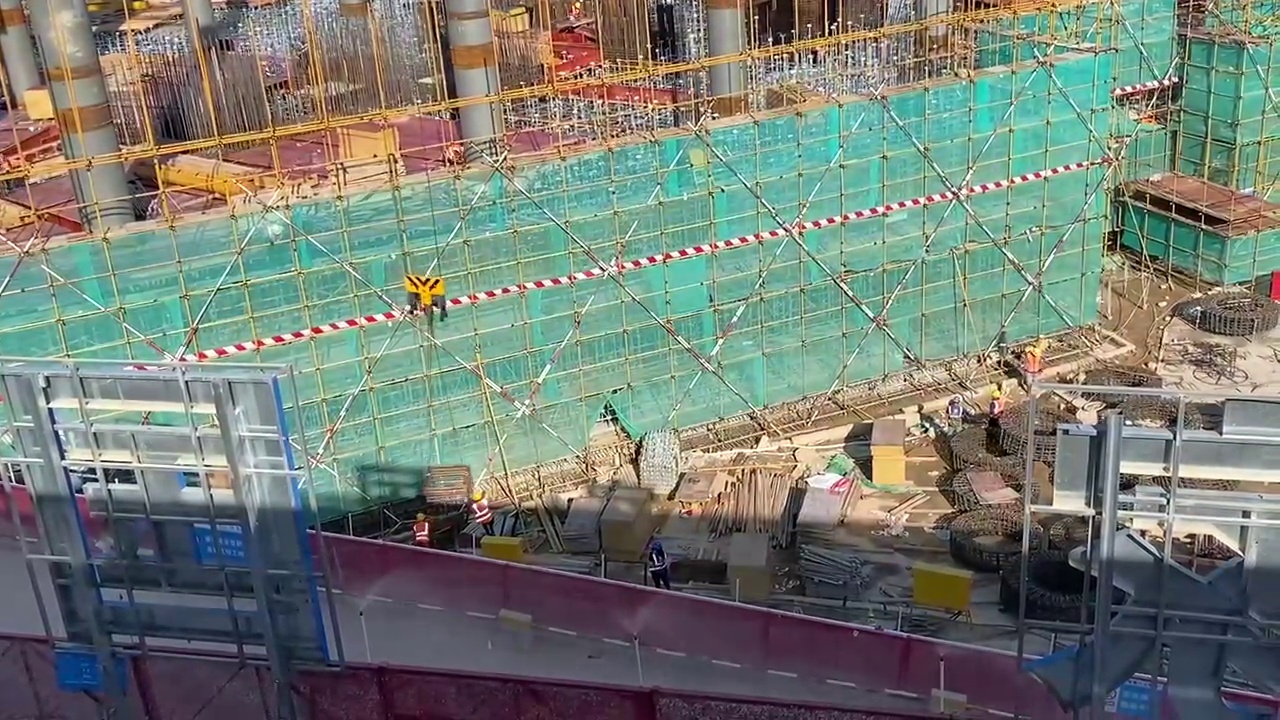board: (868, 414, 907, 491)
fence: (4, 635, 915, 720)
hook: (405, 274, 445, 309)
person: (464, 492, 499, 541), (643, 538, 669, 585), (411, 506, 440, 547)
wood: (720, 468, 802, 539)
